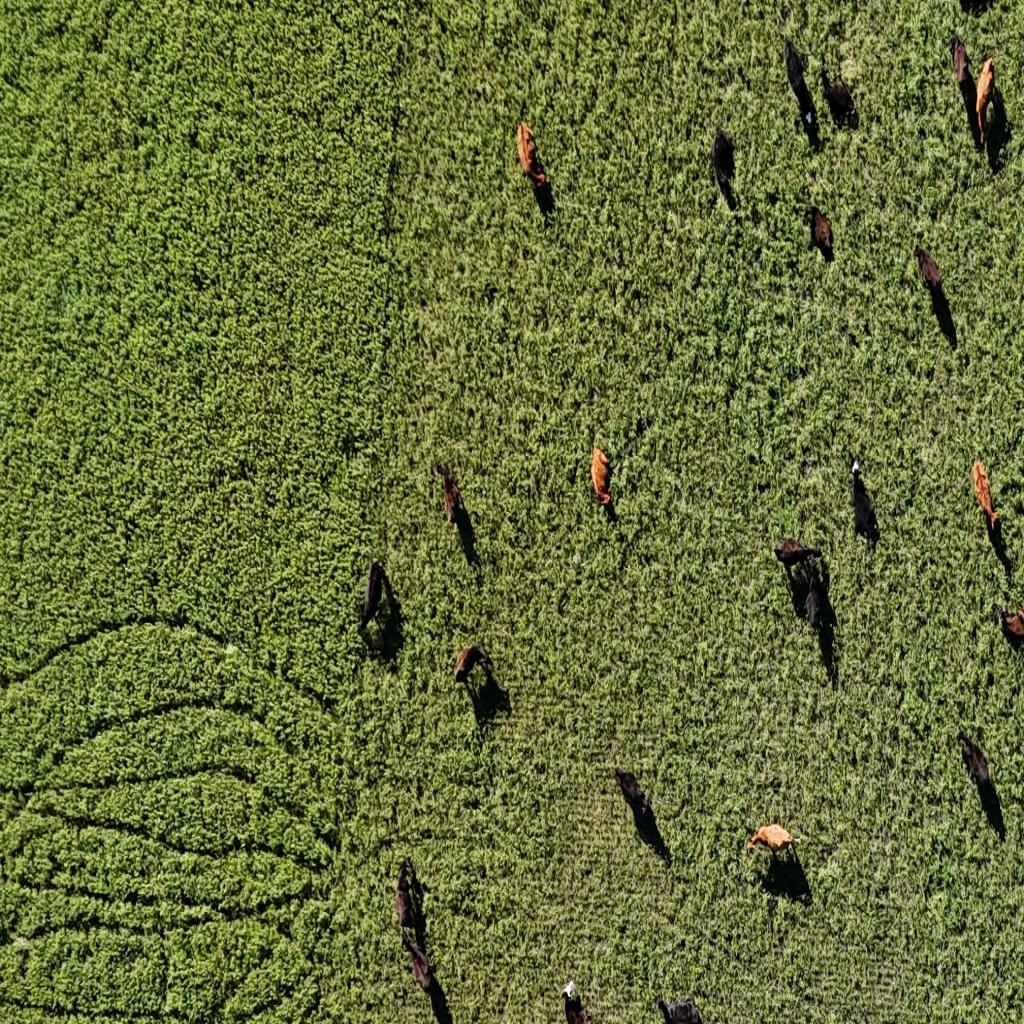cow: (616, 765, 663, 844), (762, 524, 822, 571), (355, 559, 388, 639), (819, 58, 856, 127), (850, 460, 879, 546), (972, 459, 1000, 539), (955, 727, 991, 789), (786, 60, 816, 134), (803, 199, 834, 262), (711, 122, 736, 200), (518, 120, 547, 187), (402, 932, 432, 996), (452, 642, 492, 689), (396, 859, 420, 937), (746, 823, 792, 860), (436, 461, 462, 525), (975, 54, 995, 132), (590, 446, 614, 509), (914, 243, 944, 293), (656, 993, 702, 1024), (560, 977, 590, 1024), (804, 565, 824, 632), (997, 604, 1024, 649), (950, 33, 970, 86)
